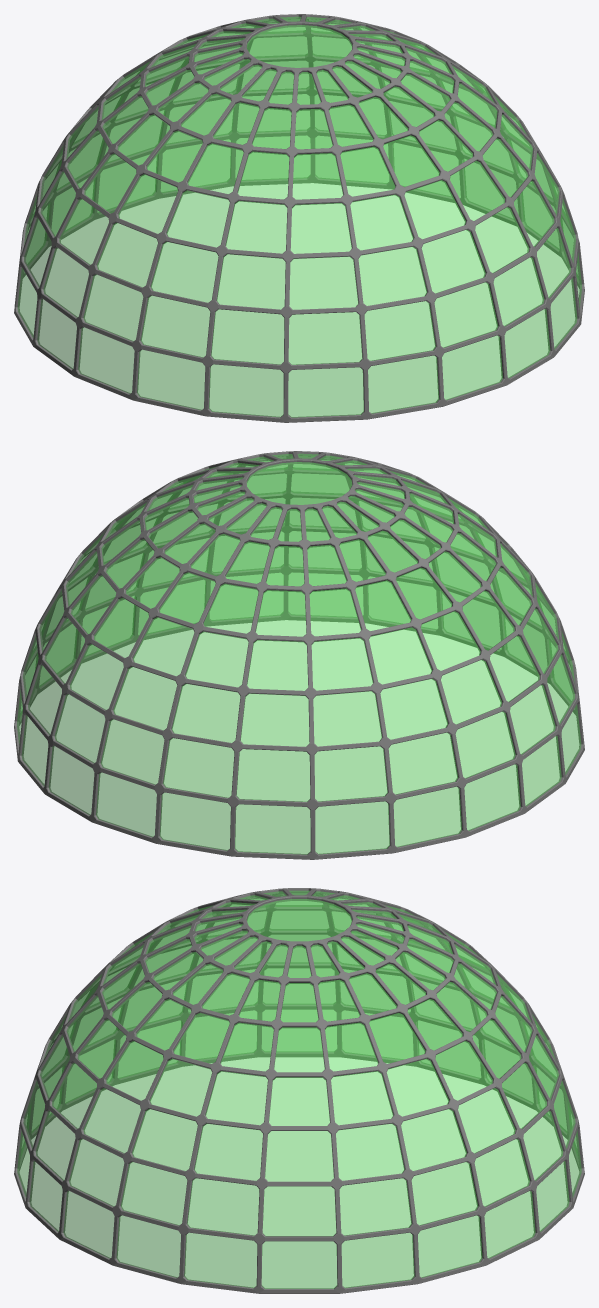
The model's file is GlassDome.fbx.
3 views of the same model, one above another, from view 1: azimuth 30°, elevation 25°; view 2: azimuth 150°, elevation 25°; view 3: azimuth 270°, elevation 25° (orthographic).
Visible parts, largest first — view 1: Sphere; view 2: Sphere; view 3: Sphere.
Part boxes in pixels (x1,y1,x2,y2): Sphere: [14, 14, 584, 422]; Sphere: [14, 451, 584, 859]; Sphere: [14, 888, 584, 1293].
Size of the model in its own units: 200 by 99.8 by 202.
